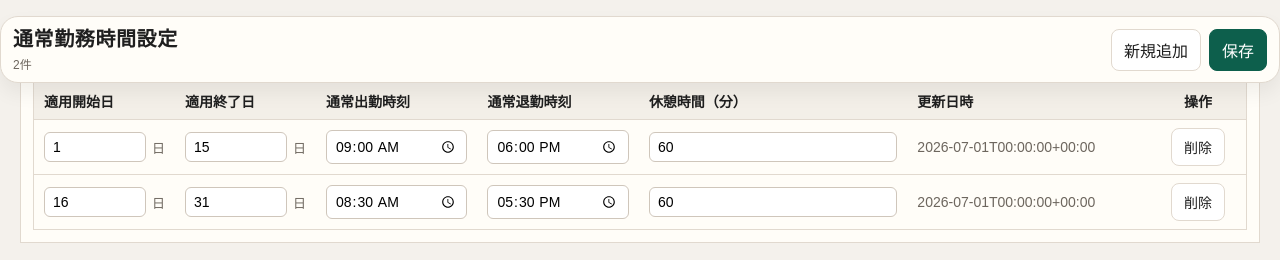
Scenario: 通常勤務時間設定画面 › 削除確認でDELETE APIを呼び、成功メッセージを表示する
The image size is (1280, 260).
Expected: the number field named "1行目 適用開始日" is shown, [44,132,146,162]
Click the 1st button "削除" at (1198, 147), box [1171,128,1225,166]
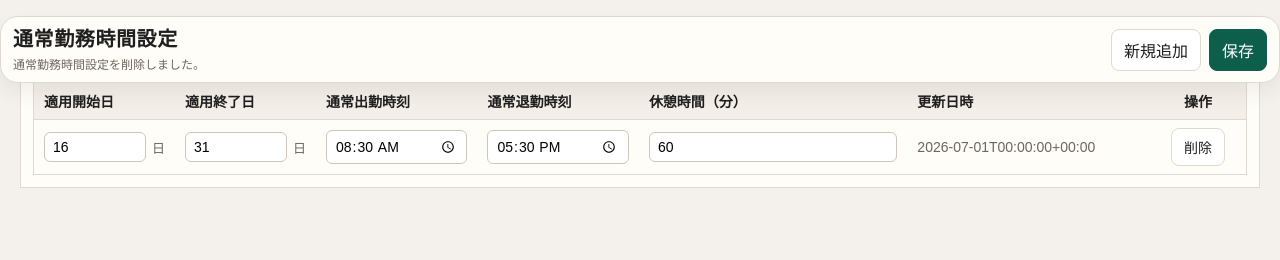
Now the text "通常勤務時間設定を削除しました。" is shown, box [13,55,205,72]
